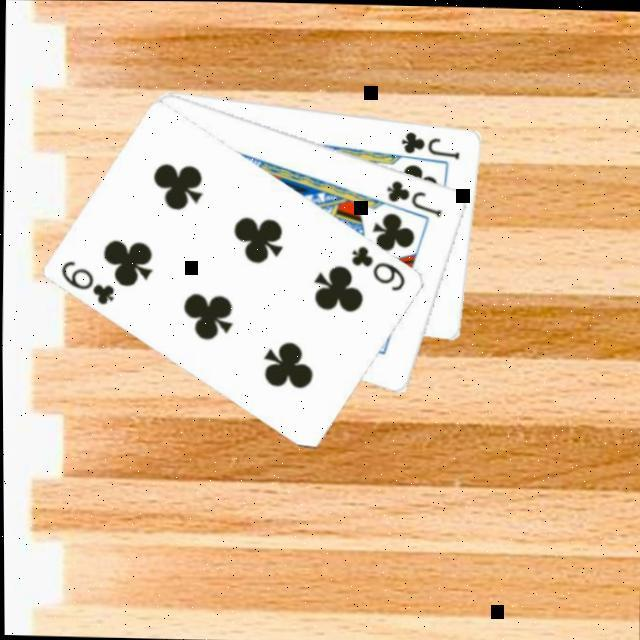6C: (349, 238, 410, 291), (58, 254, 119, 305)
JC: (384, 173, 447, 216), (398, 124, 465, 159)
